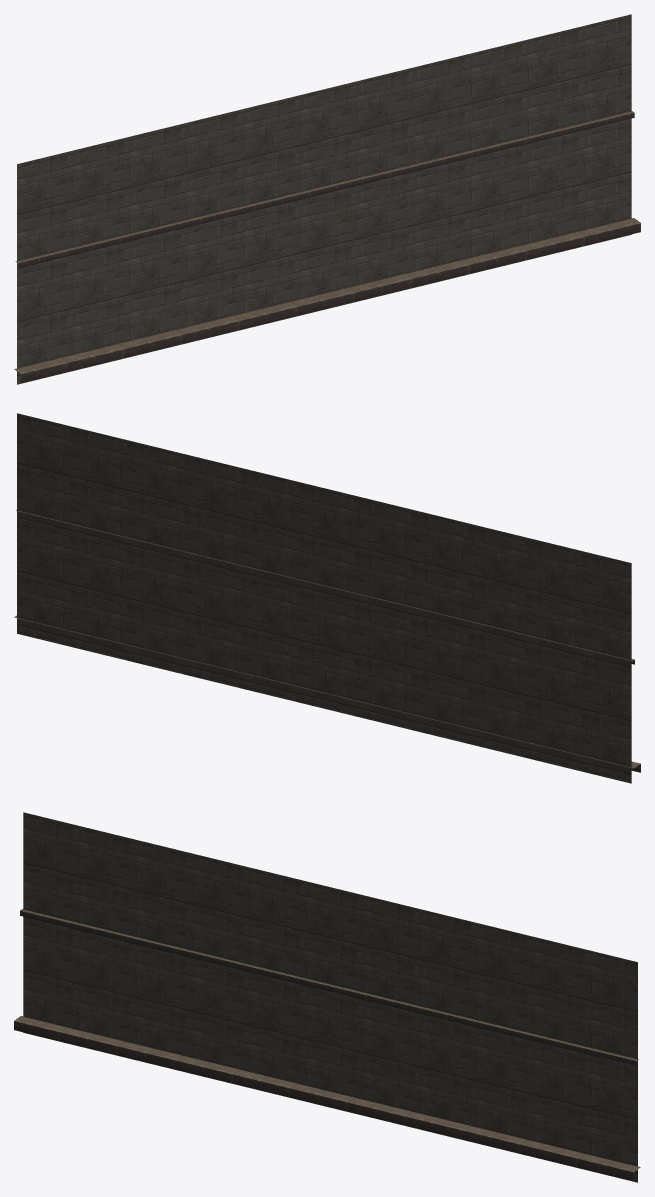
File: terrain_section03_guanka12_bj02.FBX
3 views of the same model, one above another, from view 1: azimuth 30°, elevation 25°; view 2: azimuth 150°, elevation 25°; view 3: azimuth 330°, elevation 25° (orthographic).
Parts seen in each view (by area): view 1: terrain_section03_guanka12_bj02; view 2: terrain_section03_guanka12_bj02; view 3: terrain_section03_guanka12_bj02.
Boxes of the visible parts, bbox=[...] form: terrain_section03_guanka12_bj02: bbox=[14, 14, 640, 384]; terrain_section03_guanka12_bj02: bbox=[14, 413, 640, 783]; terrain_section03_guanka12_bj02: bbox=[14, 812, 640, 1182].
Size of the model in its own units: 106 by 35.89 by 2.07.
